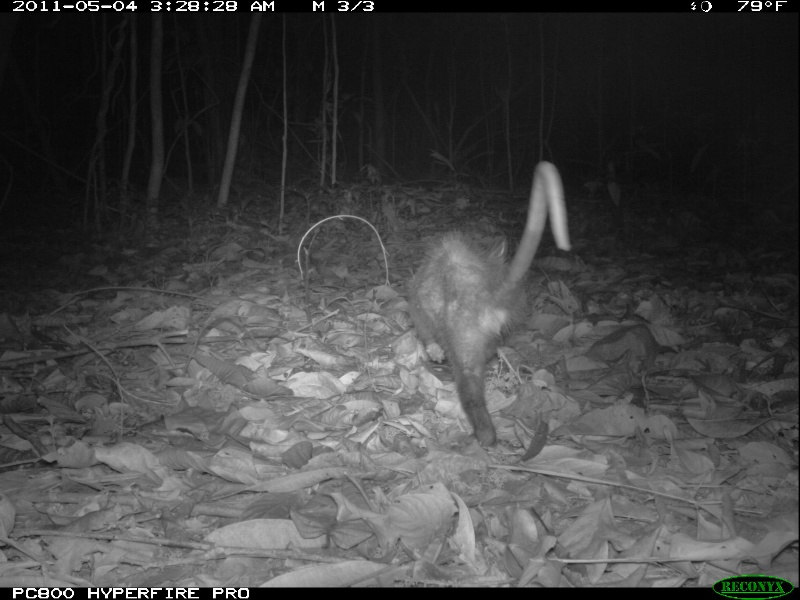opossum: (410, 155, 574, 446)
